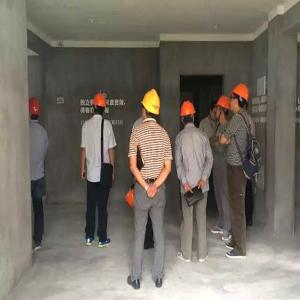red: (229, 83, 251, 113), (181, 100, 197, 127), (91, 93, 108, 117), (29, 96, 43, 123), (216, 94, 230, 121)
yellow: (140, 88, 162, 122)
